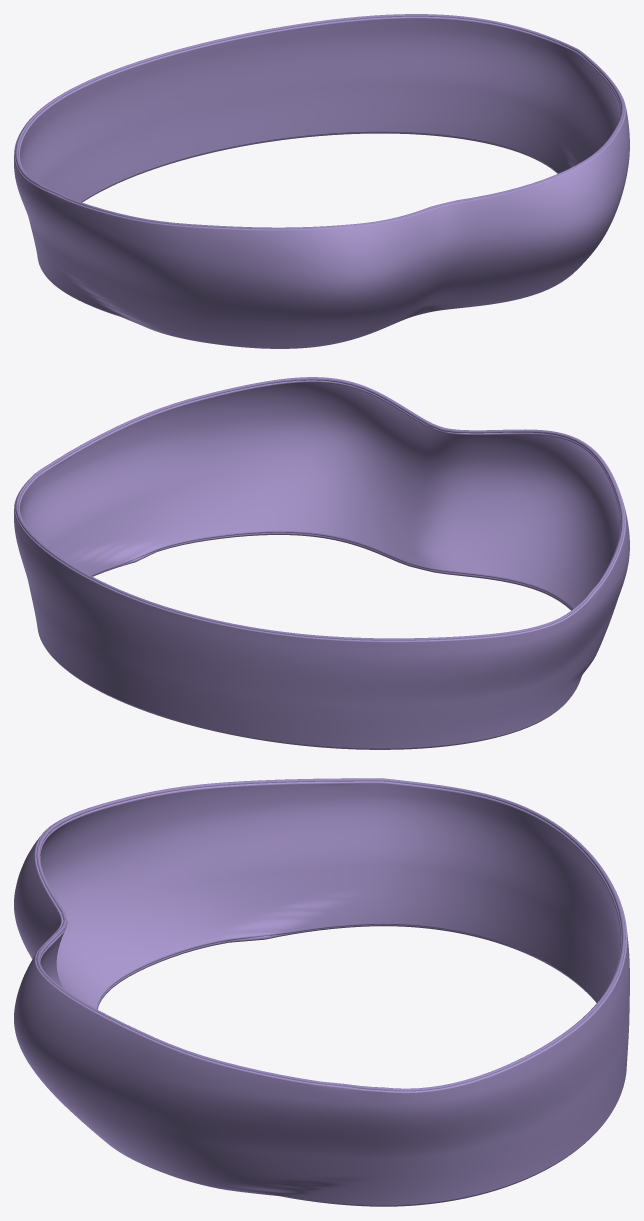
File: Feminine-bandeau-top.glb
The picture shows the model from 3 angles, top to bottom: view 1: azimuth 30°, elevation 25°; view 2: azimuth 150°, elevation 25°; view 3: azimuth 270°, elevation 25°; orthographic projection. The views are drawn at different scales.
Parts seen in each view (by area): view 1: Clothing / Bandeau, Bandeau / bound edge.001 export, Bandeau / bound edge export; view 2: Clothing / Bandeau, Bandeau / bound edge.001 export, Bandeau / bound edge export; view 3: Clothing / Bandeau, Bandeau / bound edge.001 export, Bandeau / bound edge export.
Part boxes in pixels (x1=…): Clothing / Bandeau: x1=14, y1=16, x2=629, y2=348; Bandeau / bound edge.001 export: x1=15, y1=14, x2=624, y2=229; Bandeau / bound edge export: x1=66, y1=132, x2=557, y2=315; Clothing / Bandeau: x1=14, y1=377, x2=629, y2=748; Bandeau / bound edge.001 export: x1=15, y1=377, x2=624, y2=640; Bandeau / bound edge export: x1=69, y1=532, x2=571, y2=749; Clothing / Bandeau: x1=14, y1=781, x2=629, y2=1205; Bandeau / bound edge.001 export: x1=36, y1=778, x2=625, y2=1091; Bandeau / bound edge export: x1=97, y1=924, x2=592, y2=1206.
Size of the model in its own units: 0.6458 by 0.1574 by 0.539.
